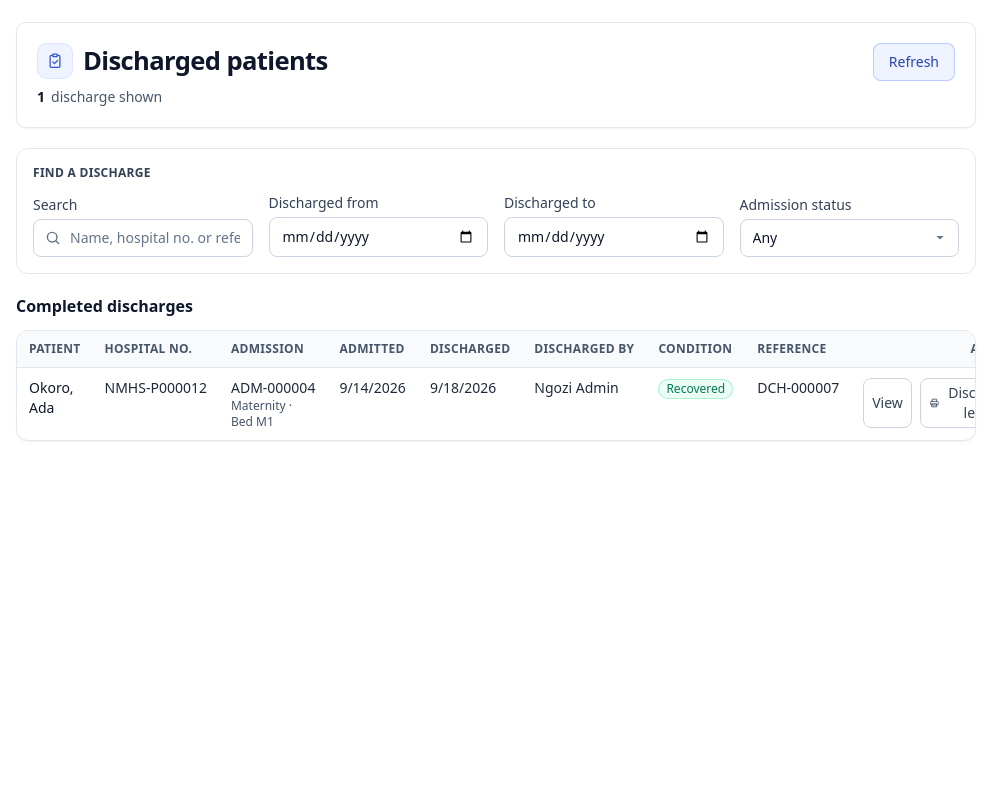
Test case: opening a discharged patient › shows DISCHARGED with the date, and the whole record
Click the button "View" at (888, 403), box x1=863 y1=378 x2=912 y2=428
(page scrolled)
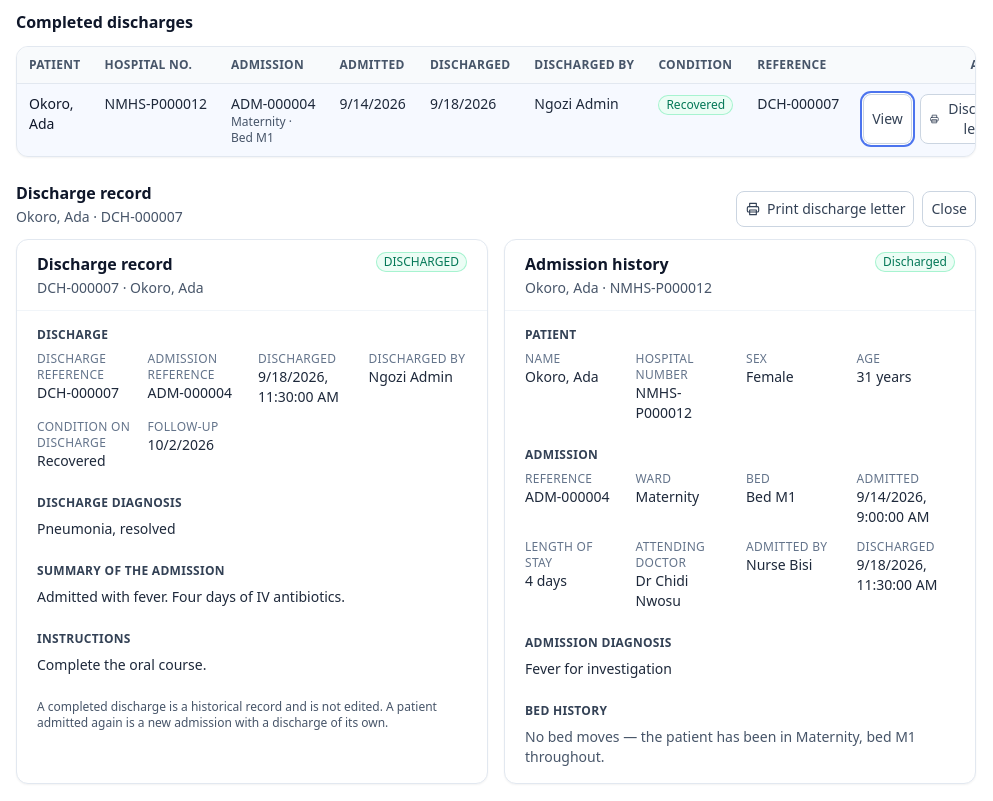
Expected: the text "DISCHARGED" is shown, x1=376 y1=252 x2=467 y2=272
Expected: the text "Pneumonia, resolved" is shown, x1=37 y1=519 x2=176 y2=538
Expected: the text "Admitted with fever. Four days of IV antibiotics." is shown, x1=37 y1=587 x2=345 y2=606
